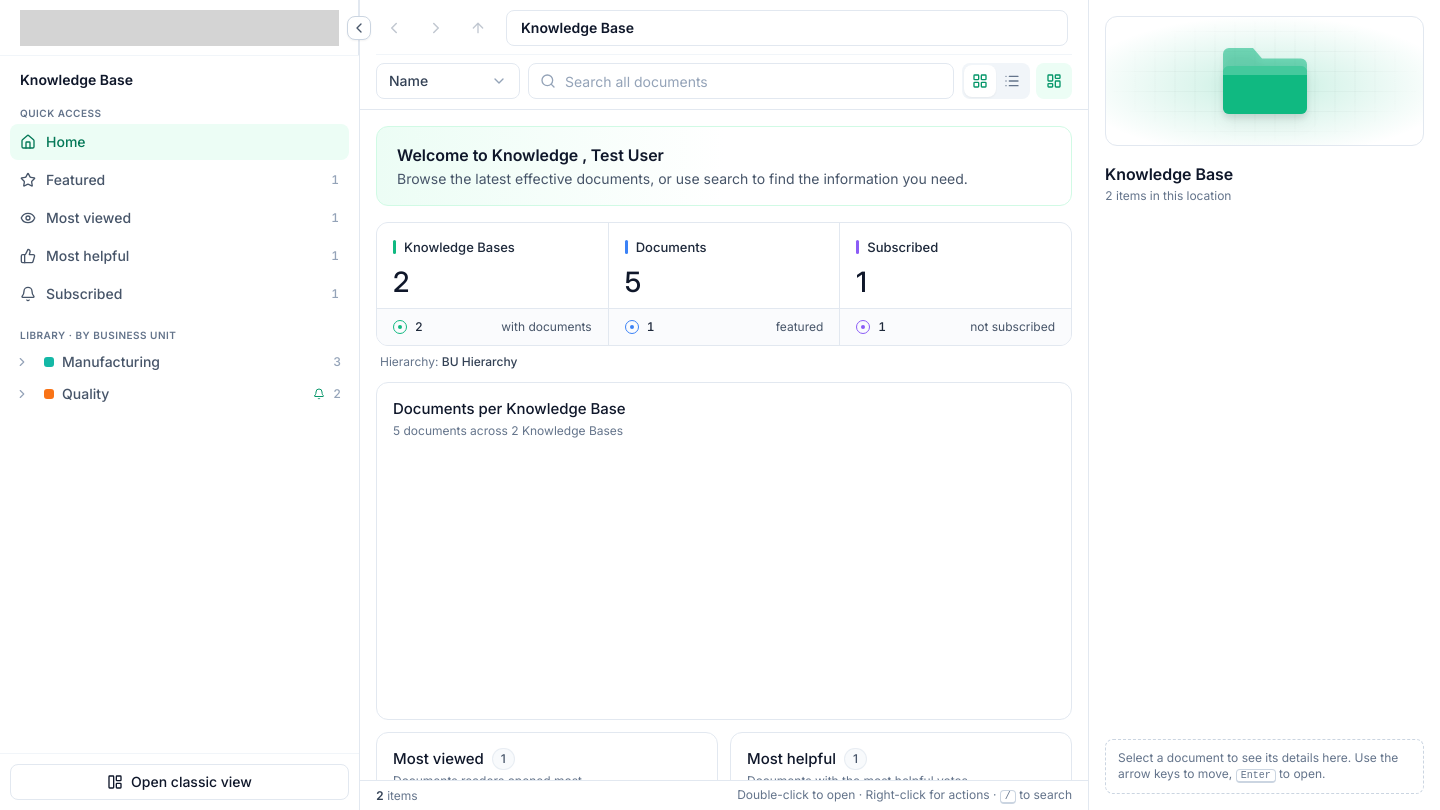
Test: KnowledgeExplorerPage › searches all documents after three characters and clears the search
The image size is (1440, 810).
Type "de" into the field labelled "Search all documents" at [741, 81], box [528, 63, 954, 99]
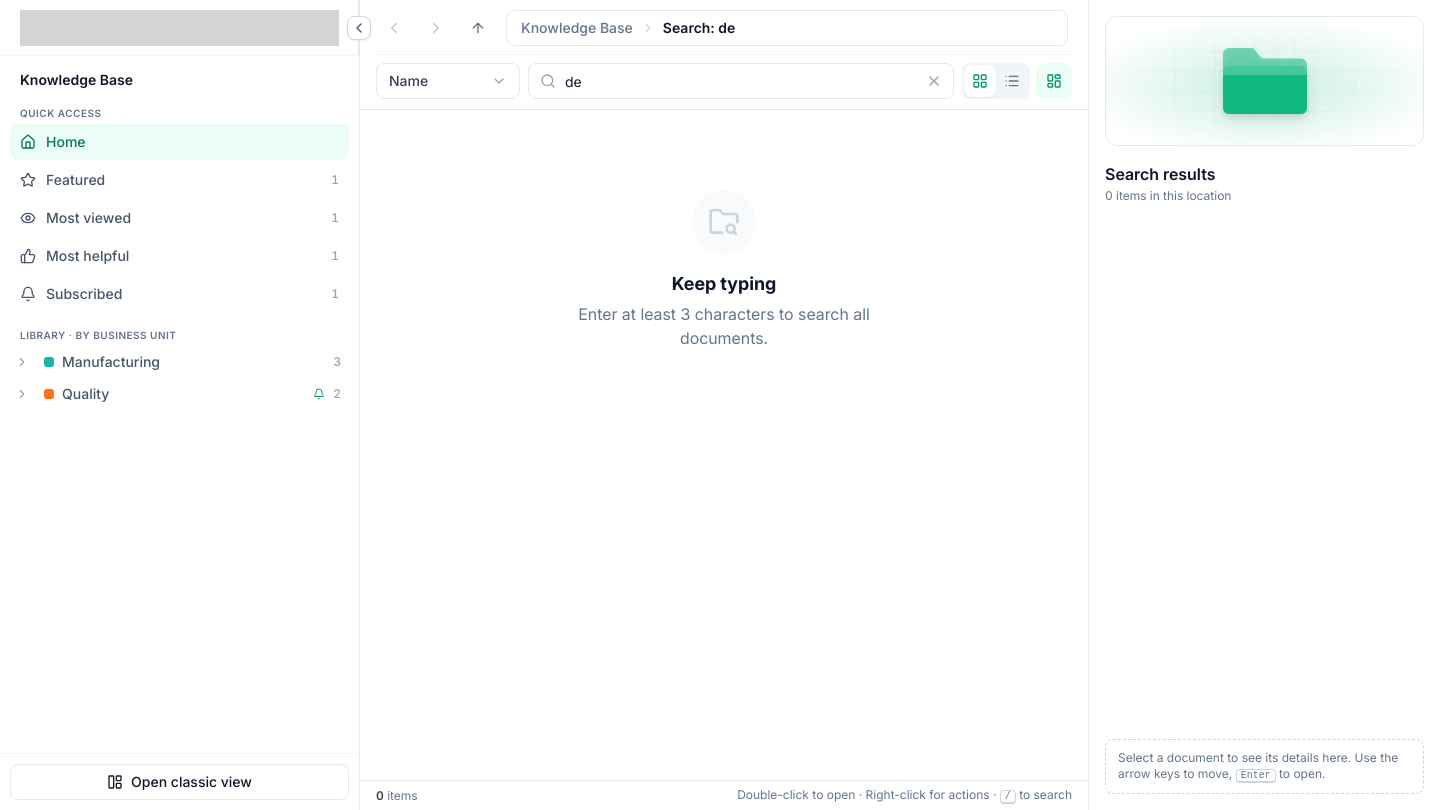
Expected: the heading "Keep typing" is shown, [672, 270, 776, 298]
Replace the text in the field named "Search all documents" with "devi" at [741, 81], box [528, 63, 954, 99]
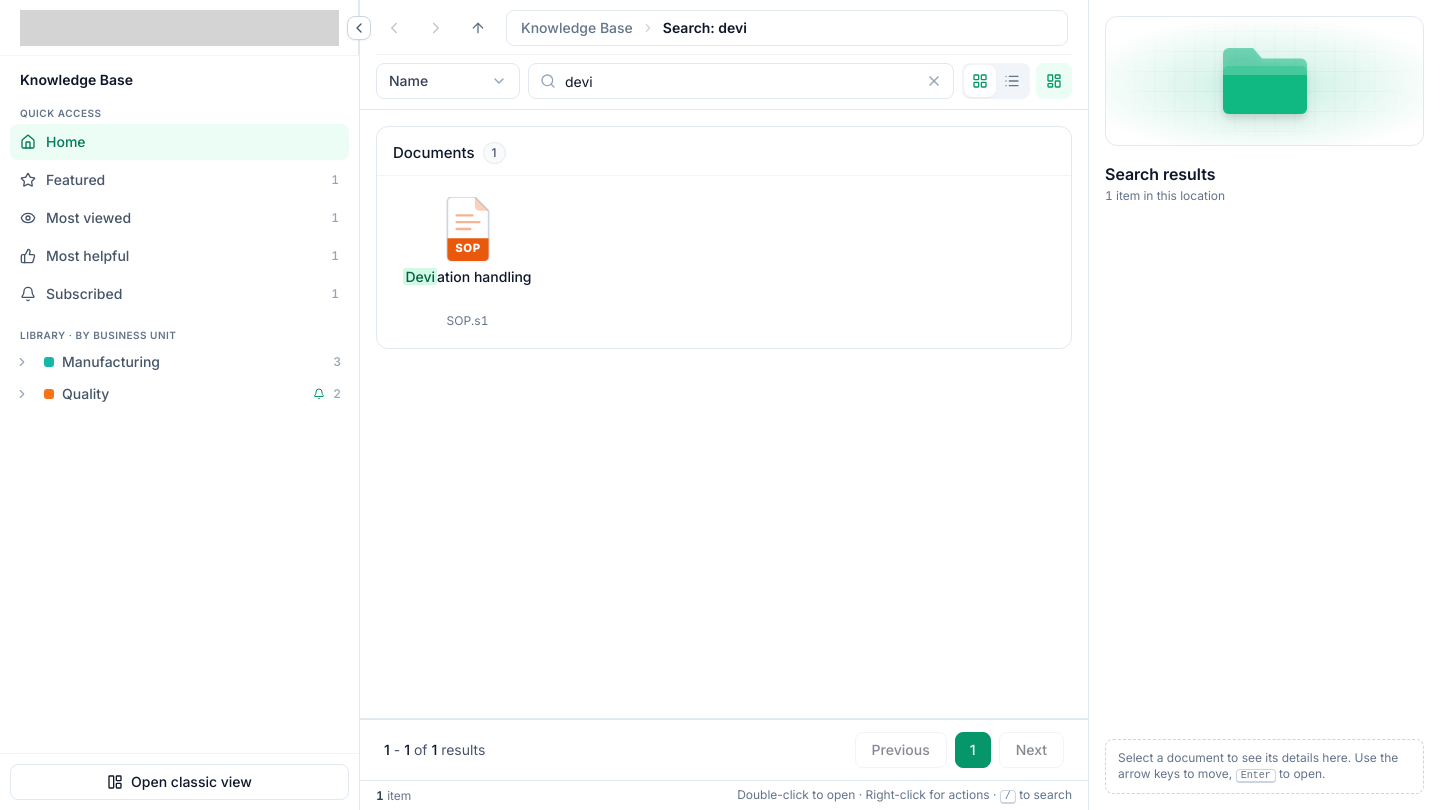
Expected: the option "SOP Deviation handling SOP.s1" is shown, [404, 197, 532, 328]
Click the button named "Clear search" at [940, 81], box [926, 63, 954, 99]
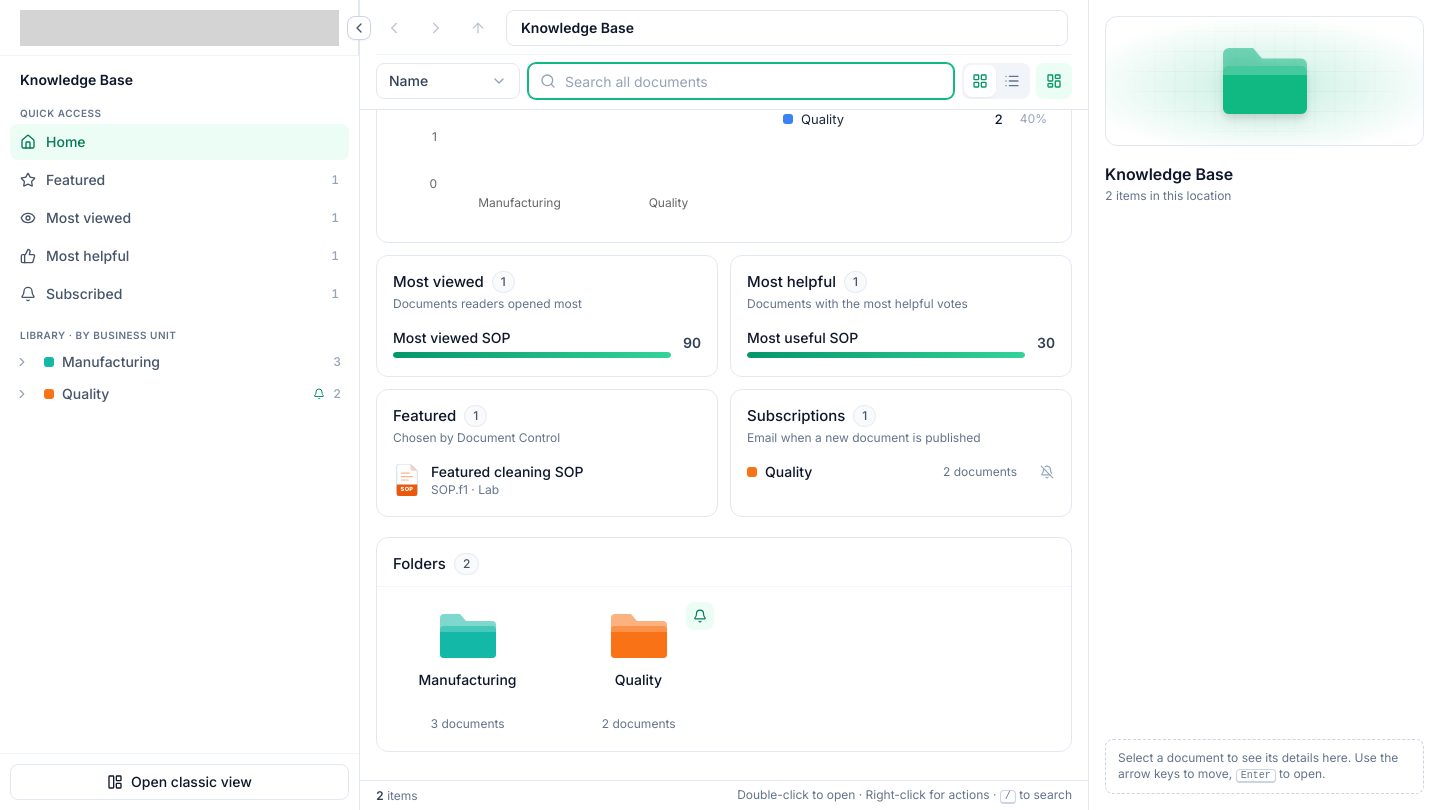
Expected: the option "Manufacturing 3 documents" is shown, [418, 608, 516, 731]
